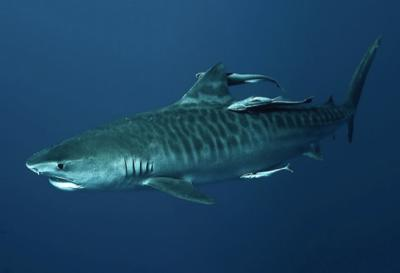Shark -Selachimorpha-: (22, 29, 386, 209)
